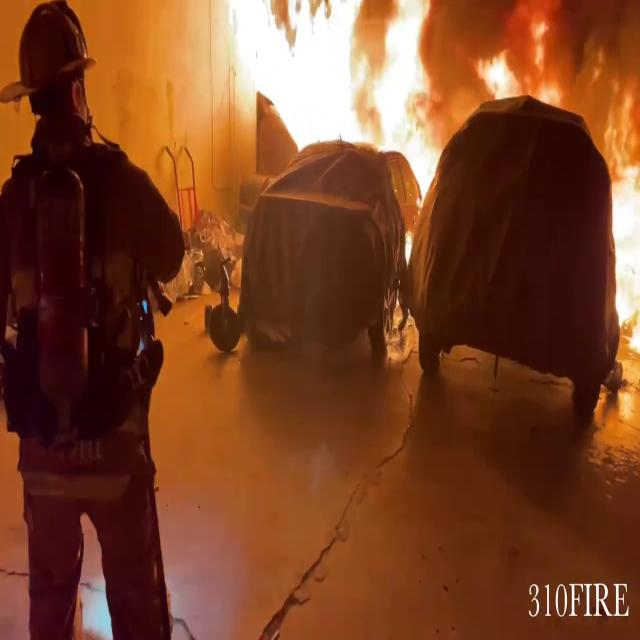Fire: (217, 0, 443, 211), (605, 100, 640, 396)
